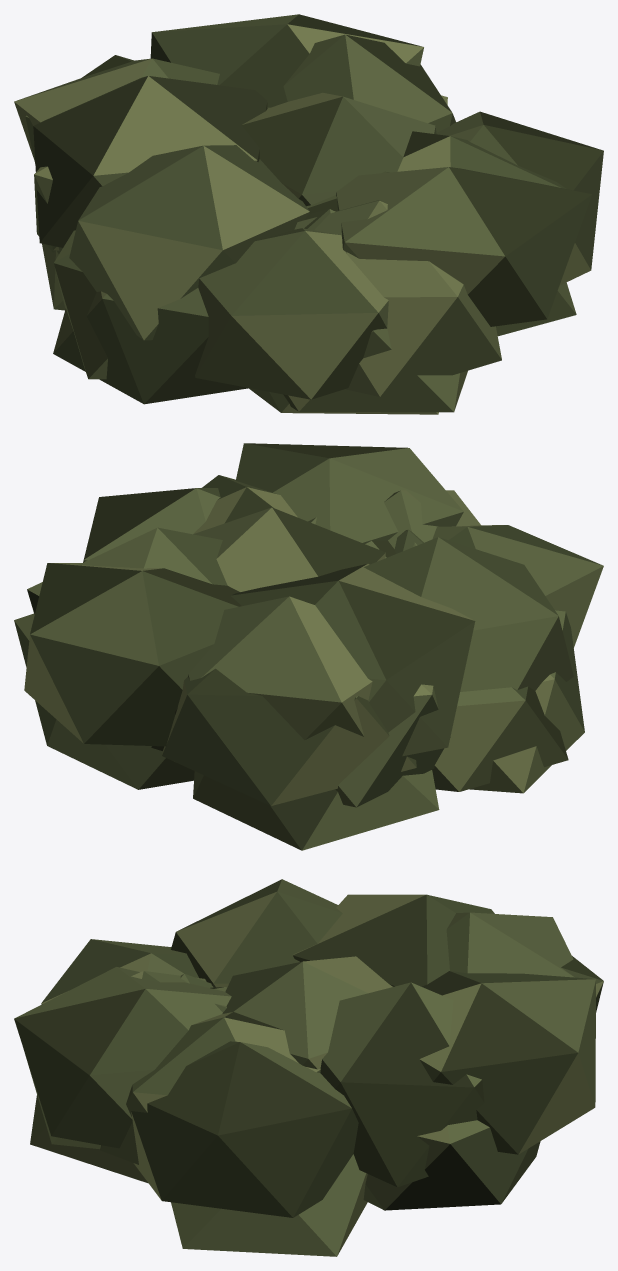
Rendered from shrub-scrub-oak.glb.
3 renders of one model, top to bottom at view 1: azimuth 30°, elevation 25°; view 2: azimuth 150°, elevation 25°; view 3: azimuth 270°, elevation 25°, orthographic. The views are drawn at different scales.
Visible parts, largest first — view 1: shrub-scrub-oak_v1_LOD0, shrub-scrub-oak_v0_LOD0, shrub-scrub-oak_v2_LOD0; view 2: shrub-scrub-oak_v1_LOD0, shrub-scrub-oak_v0_LOD0, shrub-scrub-oak_v2_LOD0; view 3: shrub-scrub-oak_v1_LOD0, shrub-scrub-oak_v0_LOD0, shrub-scrub-oak_v2_LOD0.
Boxes of the visible parts, bbox=[...] form: shrub-scrub-oak_v1_LOD0: bbox=[14, 14, 603, 404]; shrub-scrub-oak_v0_LOD0: bbox=[25, 34, 591, 414]; shrub-scrub-oak_v2_LOD0: bbox=[42, 92, 576, 412]; shrub-scrub-oak_v1_LOD0: bbox=[24, 488, 603, 793]; shrub-scrub-oak_v0_LOD0: bbox=[27, 443, 573, 807]; shrub-scrub-oak_v2_LOD0: bbox=[14, 507, 568, 850]; shrub-scrub-oak_v1_LOD0: bbox=[25, 894, 595, 1217]; shrub-scrub-oak_v0_LOD0: bbox=[14, 879, 603, 1187]; shrub-scrub-oak_v2_LOD0: bbox=[30, 956, 540, 1256].
Size of what is drawn, in the model's own units: 3.23 by 1.9 by 3.47.
